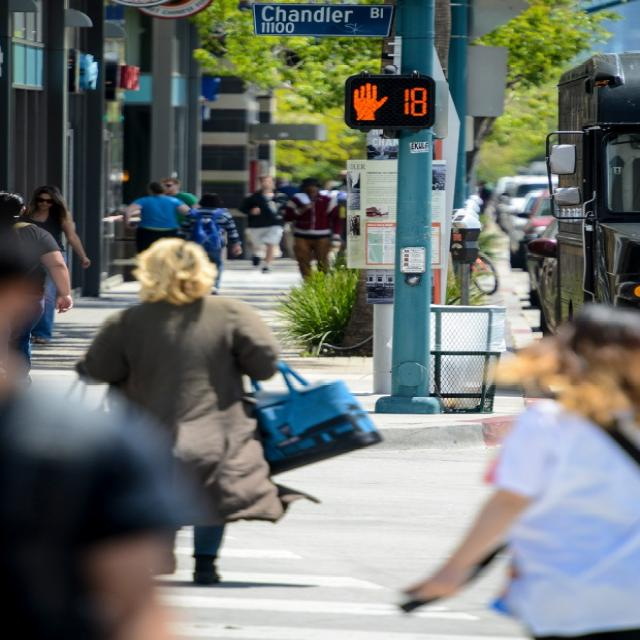body: (66, 235, 379, 594), (389, 300, 639, 640), (2, 230, 189, 639), (171, 175, 352, 261), (0, 188, 74, 390), (19, 184, 92, 344), (171, 190, 244, 298), (284, 179, 343, 281), (26, 315, 133, 368), (121, 179, 193, 256), (235, 174, 288, 276), (137, 569, 326, 597), (472, 178, 532, 262)
